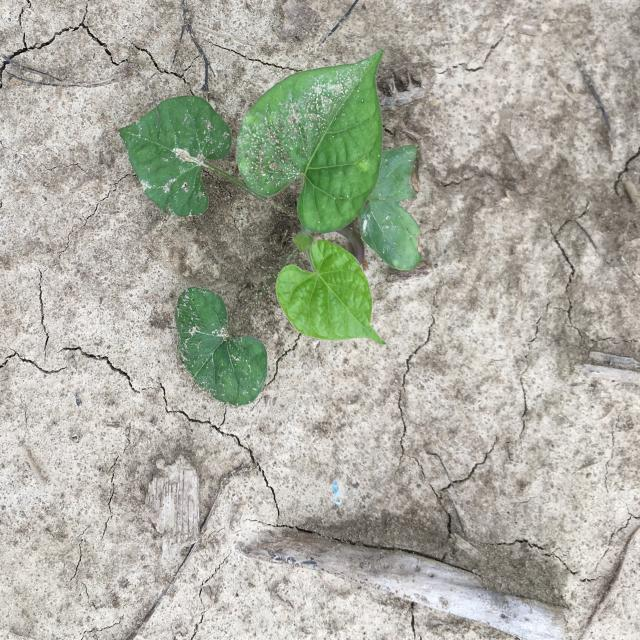MorningGlory: (118, 48, 422, 408)
